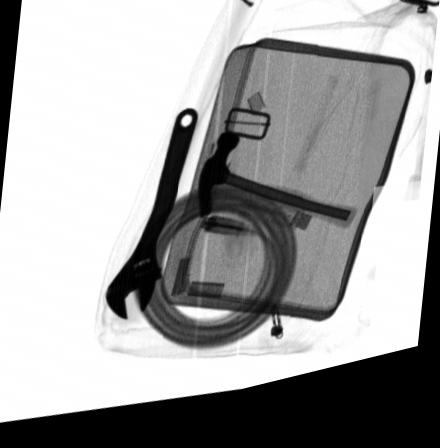Hammer: (197, 141, 359, 245)
Wrench: (106, 115, 197, 324)
